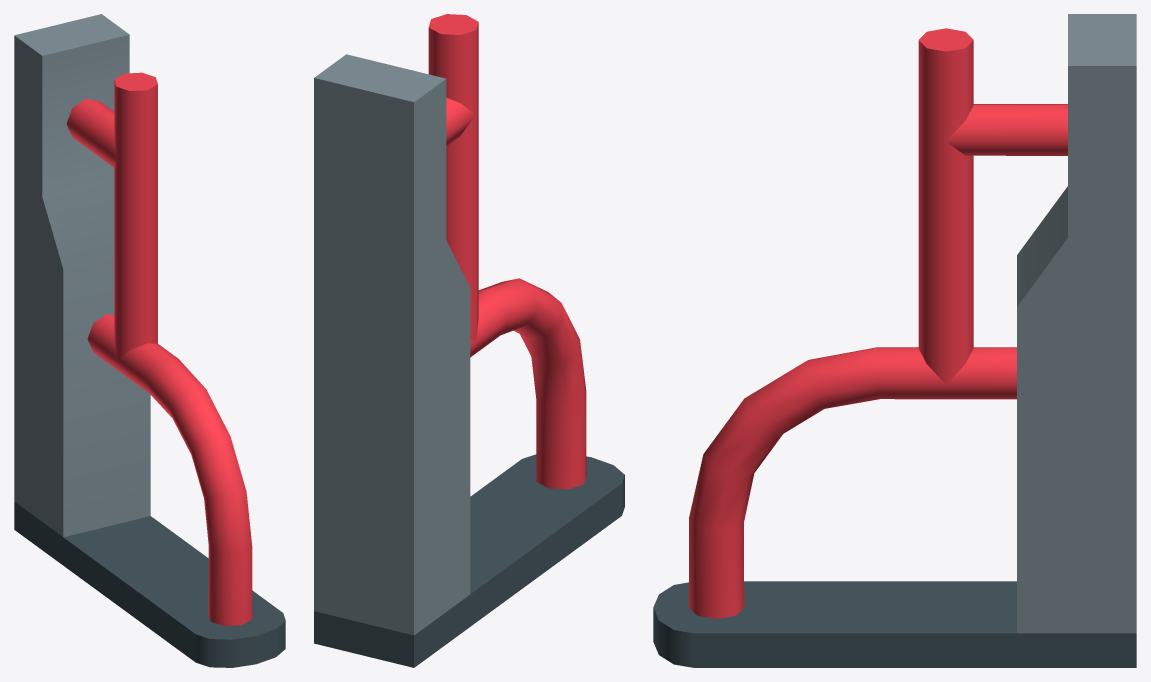
File: Short_column_007.glb
3 views of the same model, side by side, from view 1: azimuth 30°, elevation 25°; view 2: azimuth 150°, elevation 25°; view 3: azimuth 270°, elevation 25° (orthographic). The views are drawn at different scales.
Visible parts, largest first — view 1: Short_column_007; view 2: Short_column_007; view 3: Short_column_007.
Boxes of the visible parts, x1=… form: Short_column_007: x1=14, y1=14, x2=285, y2=667; Short_column_007: x1=314, y1=14, x2=624, y2=667; Short_column_007: x1=653, y1=14, x2=1136, y2=667.
Bounding box in the file's own units: 0.2406 × 1.3 × 0.9457.
Materials: 1 (1 with a texture image).
